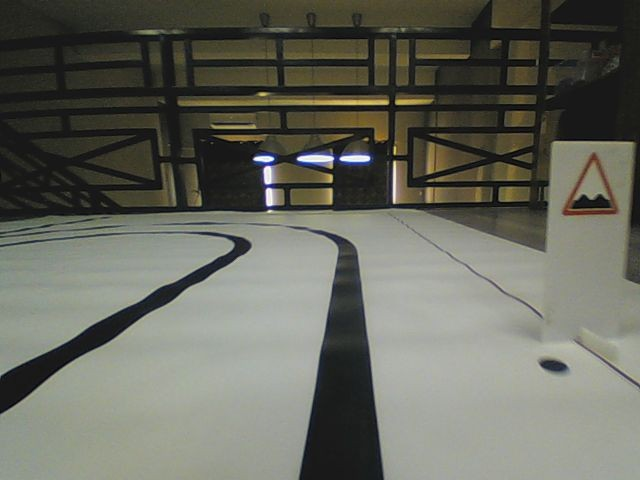Nerov: (560, 150, 620, 217)
